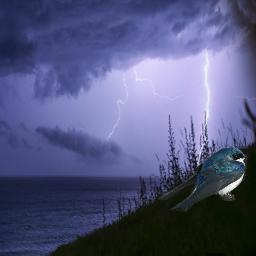Swallow: (158, 147, 247, 212)
